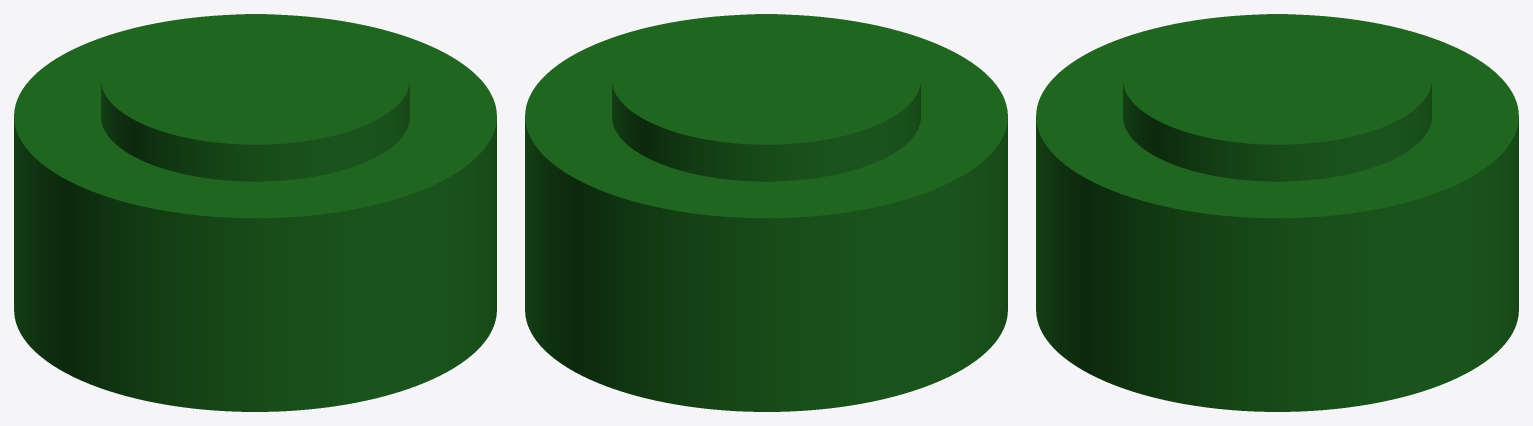
Rendered from mine.fbx.
3 views of the same model, side by side, from view 1: azimuth 30°, elevation 25°; view 2: azimuth 150°, elevation 25°; view 3: azimuth 270°, elevation 25° (orthographic).
Parts seen in each view (by area): view 1: Mine; view 2: Mine; view 3: Mine.
Boxes of the visible parts, <box> form: Mine: <box>14,14,496,411</box>; Mine: <box>525,14,1007,411</box>; Mine: <box>1036,14,1518,411</box>.
Bounding box in the file's own units: 19.87 × 10.47 × 19.87.
